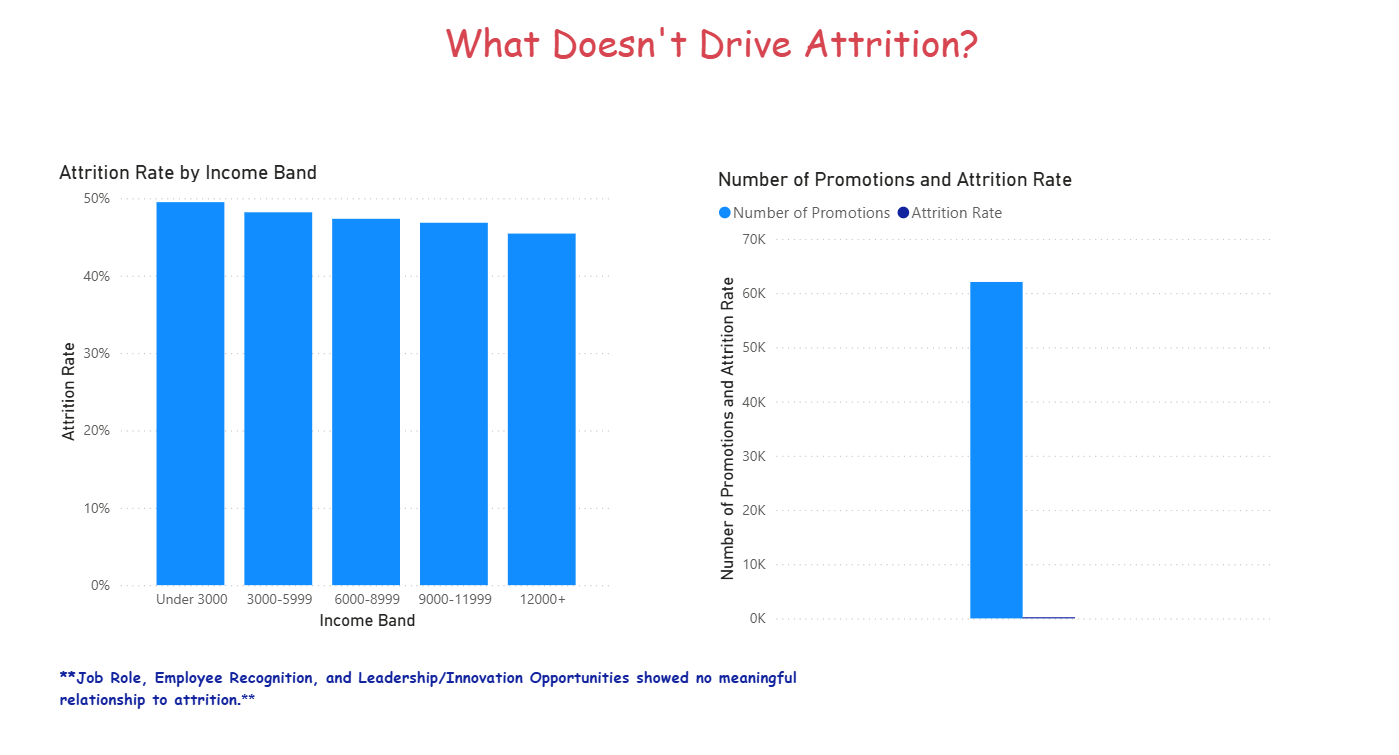

The page's visual inventory and layout, read from the dashboard file:
{"tool":"powerbi","page":{"name":"What Doesn't Drive Attrition","canvas":[1280,720],"ordinal":2},"visuals":[{"type":"clusteredColumnChart","fields":{"Category":[" employee_attrition_raw_emp_attrition_csv.Income Band"],"Y":[" employee_attrition_raw_emp_attrition_csv.Attrition Rate"]},"box":[65.6,151.8,488.2,409.7],"z":0},{"type":"clusteredColumnChart","fields":{"Y":["Sum( employee_attrition_raw_emp_attrition_csv.Number_of_Promotions)"," employee_attrition_raw_emp_attrition_csv.Attrition Rate"]},"box":[634,157.8,489.9,403.7],"z":1},{"type":"textbox","box":[66.4,23.3,1134.2,89.7],"z":2},{"type":"textbox","box":[66.4,583.1,711.6,81.9],"z":3}]}

Visuals, with their boxes on the page's 1280x720 design canvas (x1, y1, x2, y2). These are canvas units, not pixel positions in the 1399x755 screenshot, which may show the page scaled, cropped or inside an application window:
clusteredColumnChart -  employee_attrition_raw_emp_attrition_csv.Income Band x  employee_attrition_raw_emp_attrition_csv.Attrition Rate: [66, 152, 554, 562]
clusteredColumnChart - Sum( employee_attrition_raw_emp_attrition_csv.Number_of_Promotions) x  employee_attrition_raw_emp_attrition_csv.Attrition Rate: [634, 158, 1124, 562]
textbox: [66, 23, 1201, 113]
textbox: [66, 583, 778, 665]
